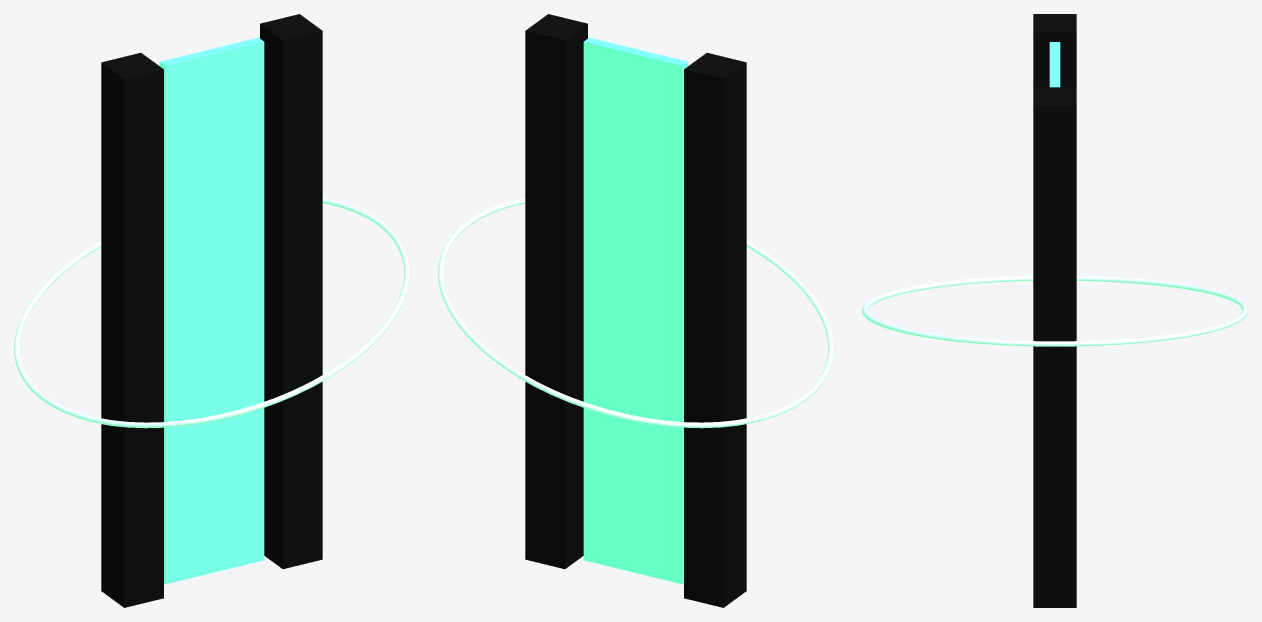
File: gate.glb
3 views of the same model, side by side, from view 1: azimuth 30°, elevation 25°; view 2: azimuth 150°, elevation 25°; view 3: azimuth 270°, elevation 25° (orthographic). The views are drawn at different scales.
Bounding box in the file's own units: 6.86 × 10.2 × 7.1.
